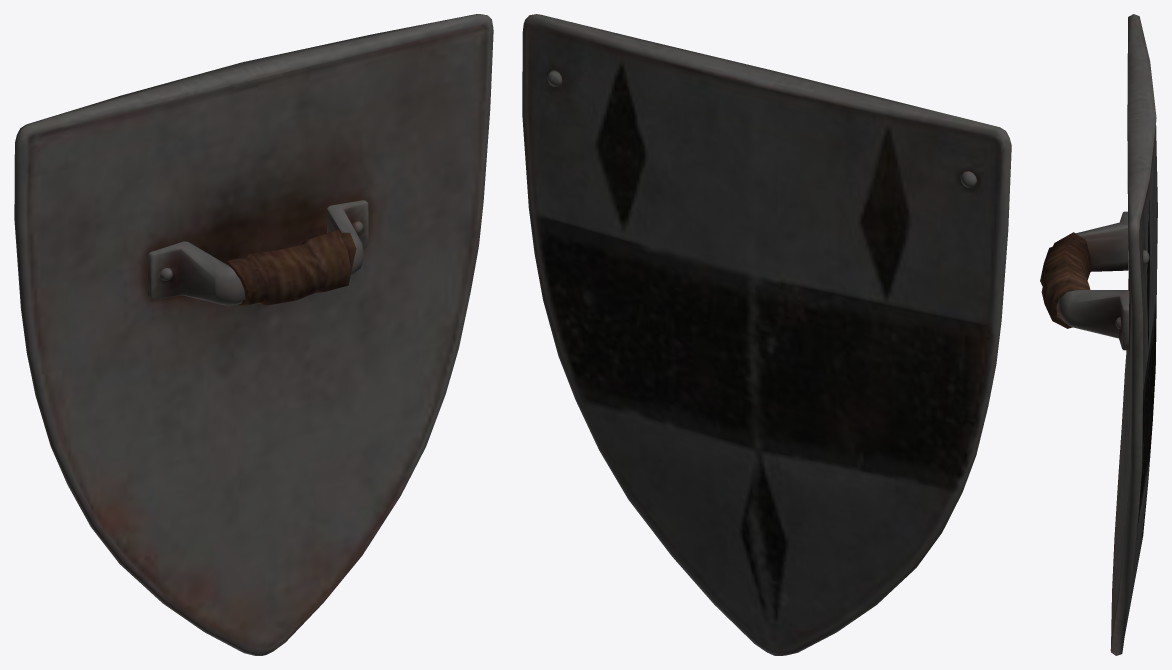
The model's file is weapon-wp_a_2037.glb.
3 renders of one model, left to right at view 1: azimuth 30°, elevation 25°; view 2: azimuth 150°, elevation 25°; view 3: azimuth 270°, elevation 25°, orthographic. The views are drawn at different scales.
Parts seen in each view (by area): view 1: wp_a_2037_mesh; view 2: wp_a_2037_mesh; view 3: wp_a_2037_mesh.
Part boxes in pixels (box(x1,y1,x2,y2)): wp_a_2037_mesh: box(14, 14, 493, 655); wp_a_2037_mesh: box(522, 14, 1011, 655); wp_a_2037_mesh: box(1040, 14, 1157, 655).
Size of the model in its own units: 0.5657 by 0.6562 by 0.1304.
1 material, 1 textured.
